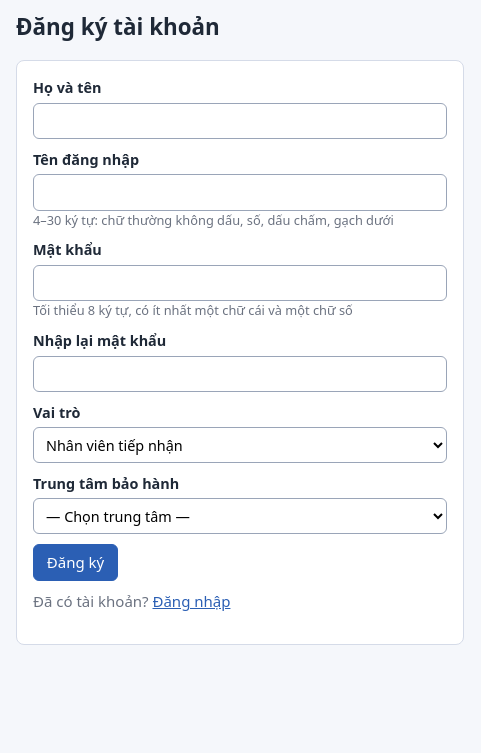
Trang đăng ký › biên: ô Mã đăng ký chỉ hiện với Kỹ thuật viên và Quản lý, ẩn với Nhân viên tiếp nhận
Expected: the dropdown labelled "Trung tâm bảo hành" is shown, [33,498,447,534]
Expected: the field labelled "Mã đăng ký" is not shown
Select "Quản lý trung tâm" in the dropdown labelled "Vai trò" at (240, 445), box [33,427,447,463]
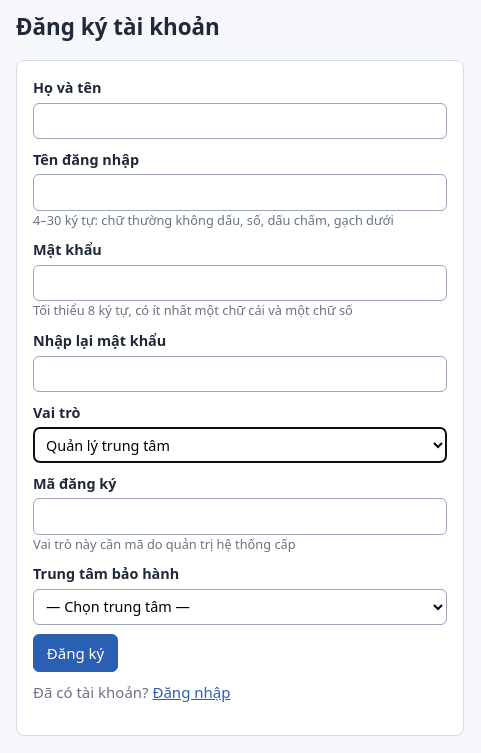
Expected: the field labelled "Mã đăng ký Vai trò này cần mã do quản trị hệ thống cấp" is shown, [33,498,447,535]
Select "Nhân viên tiếp nhận" in the dropdown labelled "Vai trò" at (240, 445), box [33,427,447,463]
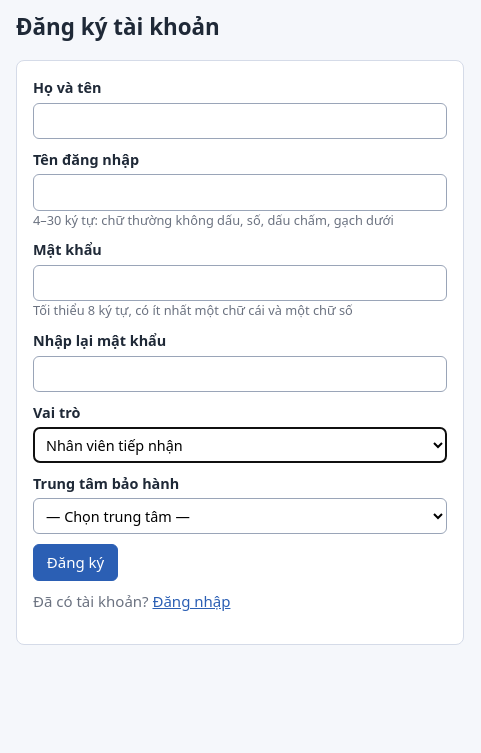
Expected: the label labelled "Mã đăng ký" is gone
